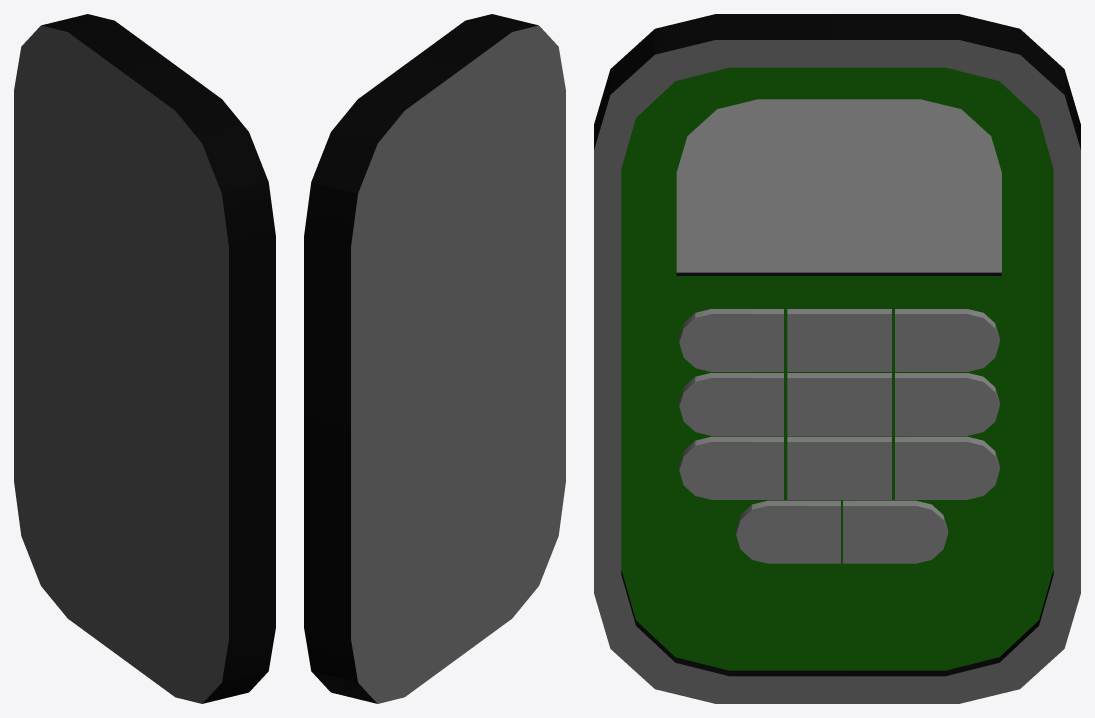
File: Digital Lock.fbx
3 renders of one model, left to right at view 1: azimuth 30°, elevation 25°; view 2: azimuth 150°, elevation 25°; view 3: azimuth 270°, elevation 25°, orthographic. The views are drawn at different scales.
Visible parts, largest first — view 1: polySurface12; view 2: polySurface12; view 3: polySurface12.
Boxes of the visible parts, x1,y1,x2,y2 form: polySurface12: (14, 14, 275, 703); polySurface12: (304, 14, 565, 703); polySurface12: (594, 14, 1080, 703).
Size of the model in its own units: 6.2 by 74.06 by 49.21.
